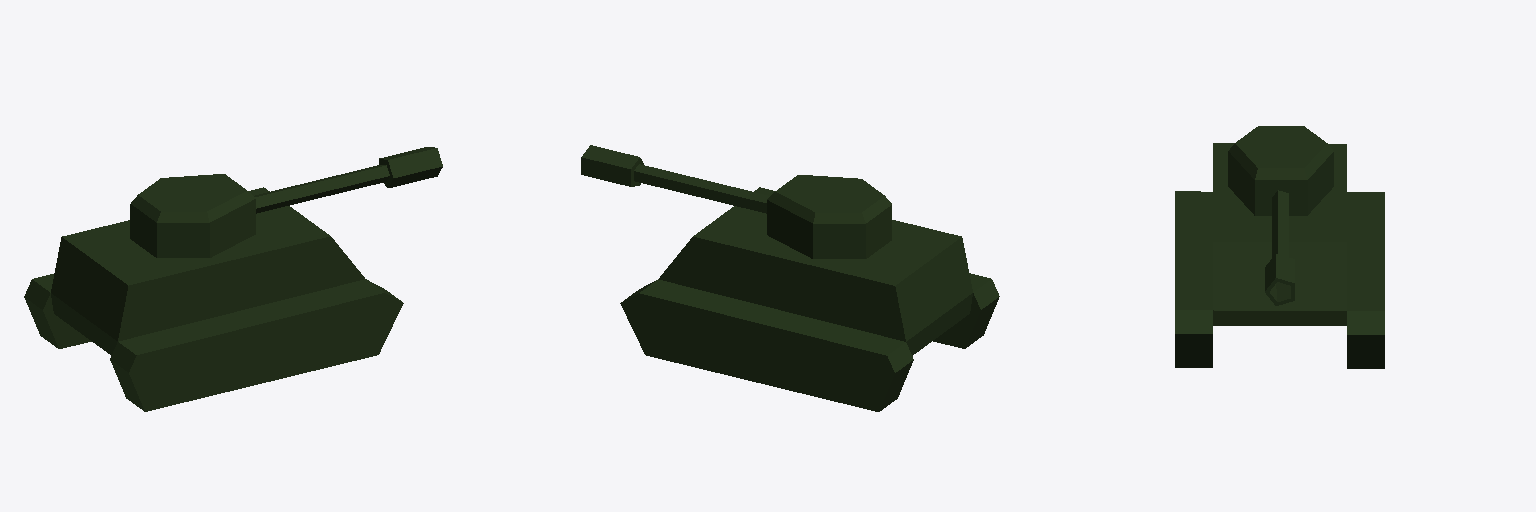
Rendered from tank3.obj.
The picture shows the model from 3 angles: view 1: azimuth 30°, elevation 25°; view 2: azimuth 150°, elevation 25°; view 3: azimuth 270°, elevation 25°; orthographic projection.
Size of the model in its own units: 10.04 by 4.18 by 5.08.